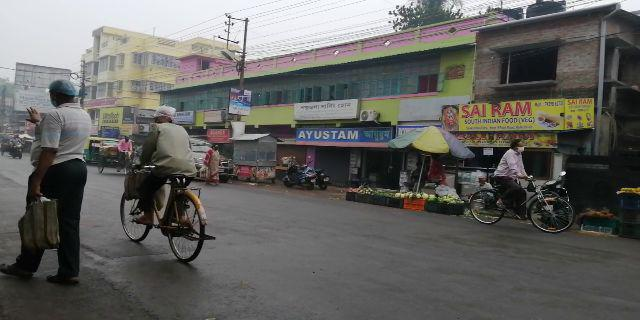Cycle: (113, 107, 217, 265), (466, 137, 576, 231)
